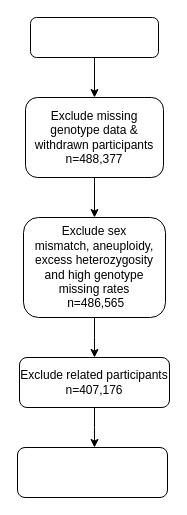
Image size: 187x515. Some labels were removed from this diagram. Here are the shapes that lost their labels. From the top down, the centre of each, then its label:
At (94,37): "UK Biobank n=502,528".
At (92,472): "Exclude non-white British n=337,076".
